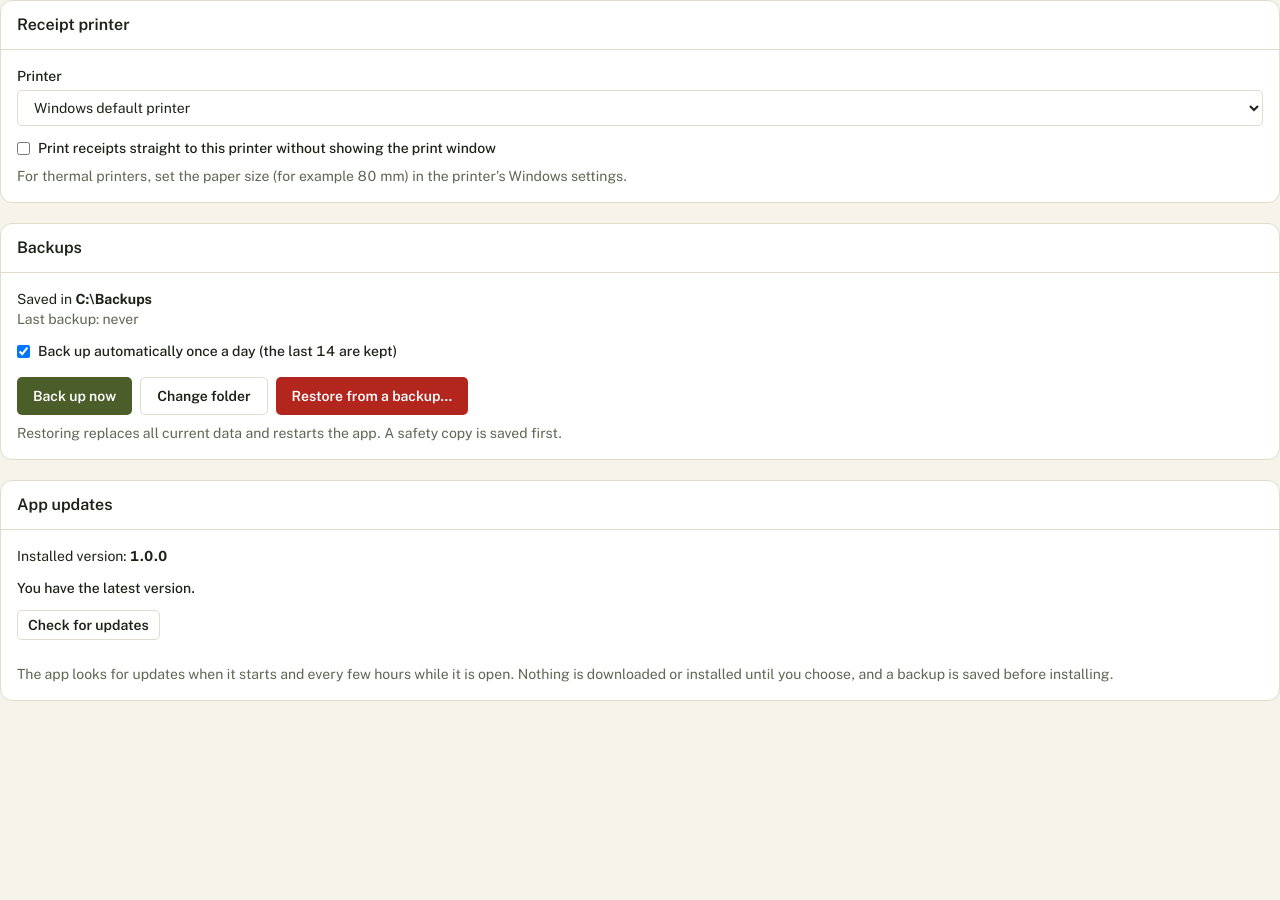
app updates in the desktop settings › checks for updates on request and shows what it found
Click the button "Check for updates".
click(88, 625)  # box [17,610,160,640]
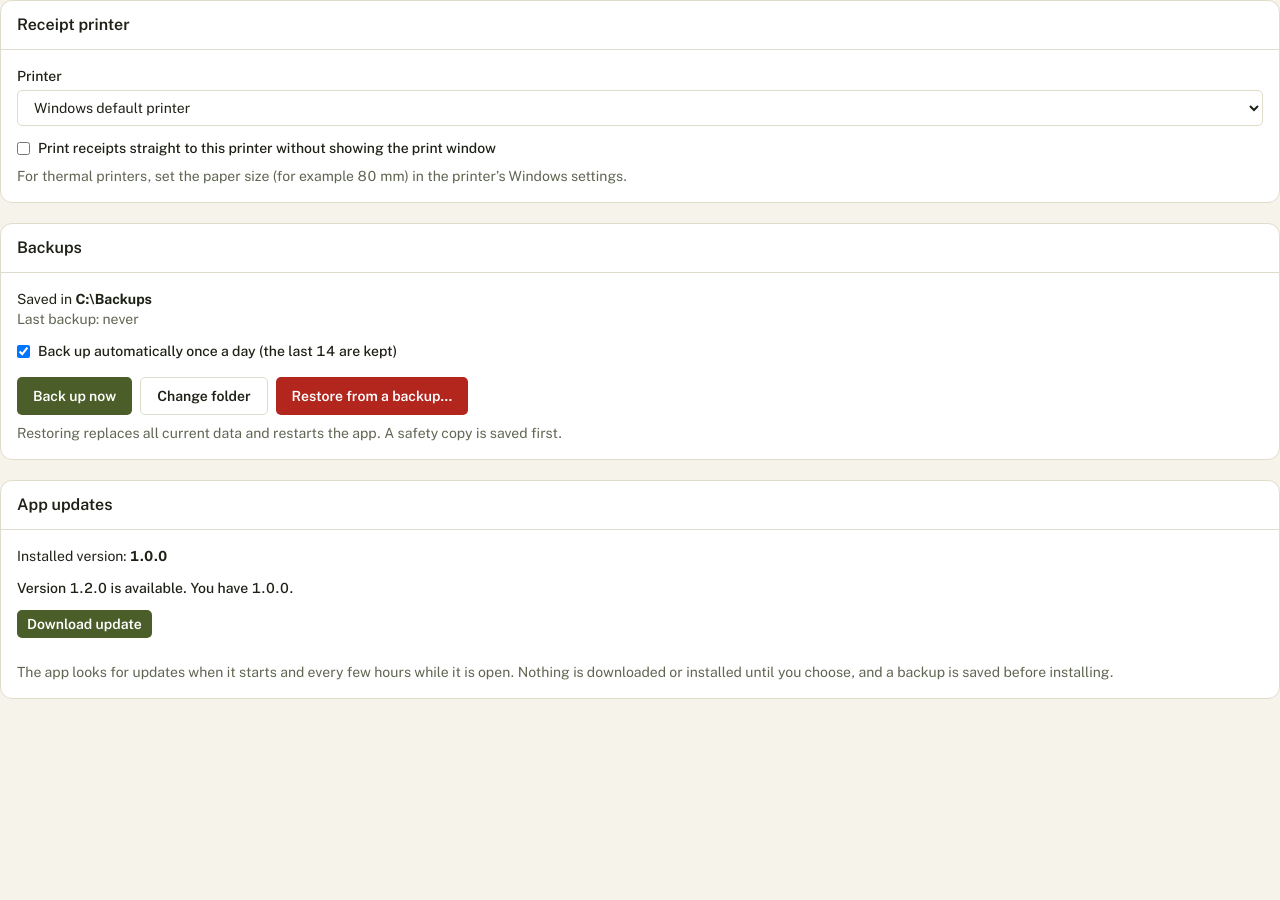
Check: the text "Version 1.2.0 is available. You have 1.0.0." is shown, box [17,580,293,596]
